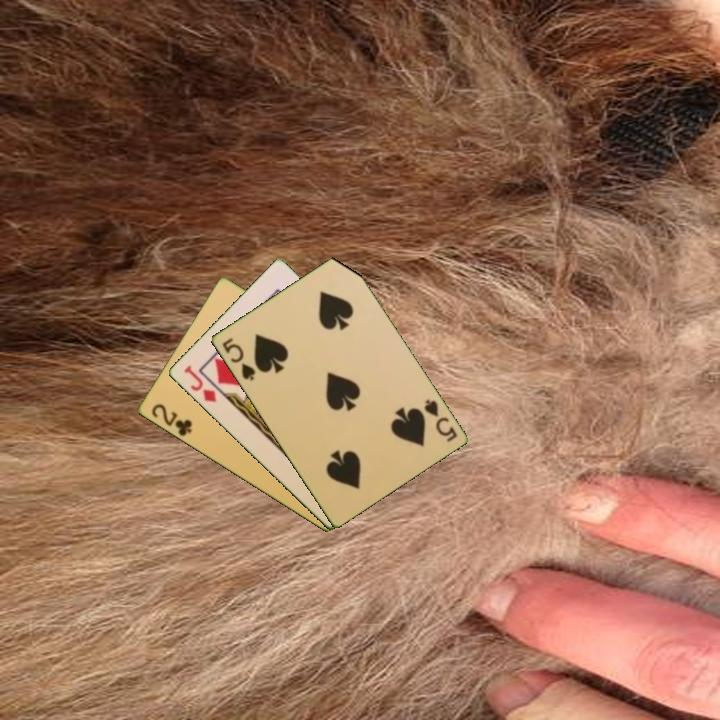2c: (147, 400, 195, 439)
5s: (218, 334, 258, 384), (420, 396, 460, 445)
Jd: (179, 362, 219, 406)
